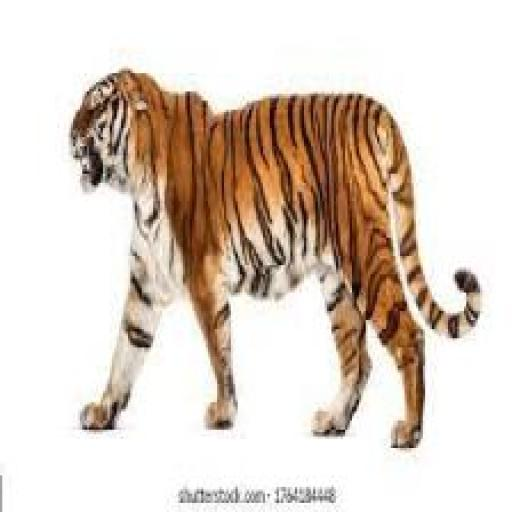Tiger: (71, 70, 481, 446)
